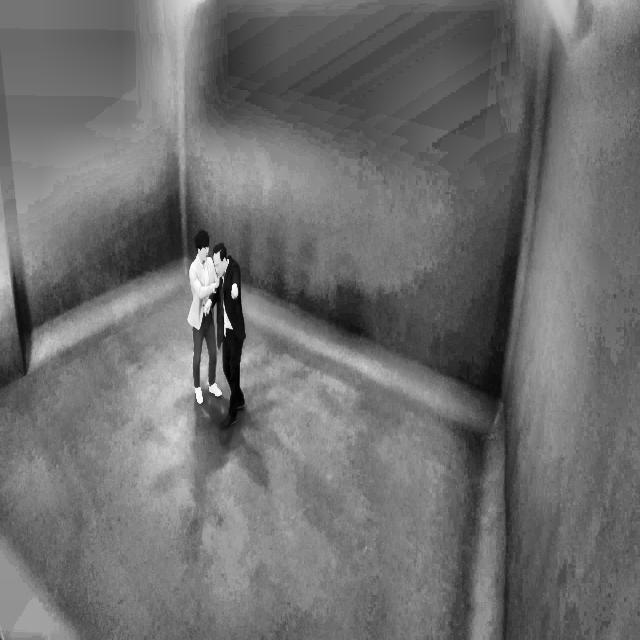assult: (178, 218, 264, 437)
